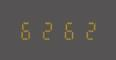six: (18, 20, 37, 40), (58, 20, 77, 40)
two: (38, 20, 57, 40), (78, 20, 97, 40)
